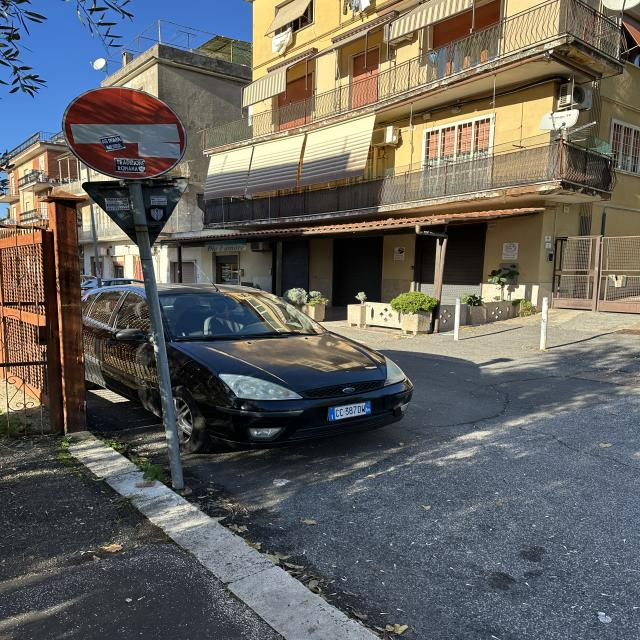number_plate: (328, 401, 371, 421)
